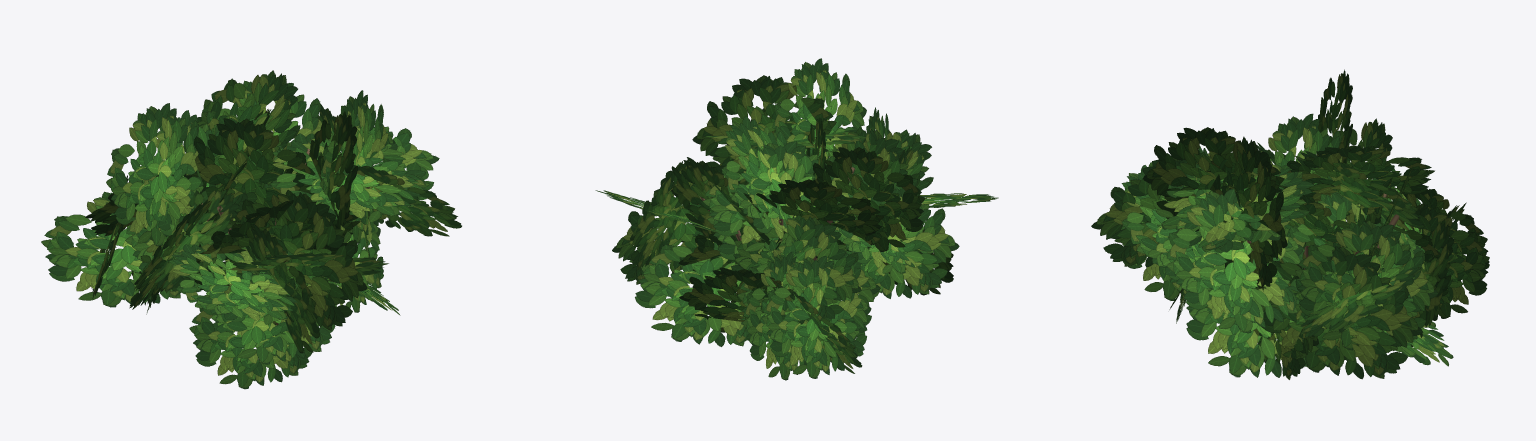
Rendered from bush.glb.
The picture shows the model from 3 angles, left to right: view 1: azimuth 30°, elevation 25°; view 2: azimuth 150°, elevation 25°; view 3: azimuth 270°, elevation 25°; orthographic projection. The views are drawn at different scales.
Visible parts, largest first — view 1: bush; view 2: bush; view 3: bush.
Boxes of the visible parts, x1,y1,x2,y2 form: bush: (41,70,461,389); bush: (595,58,998,380); bush: (1091,69,1489,379).
Size of the model in its own units: 1.84 by 1.2 by 1.74.
Materials: 2 (1 with a texture image).
